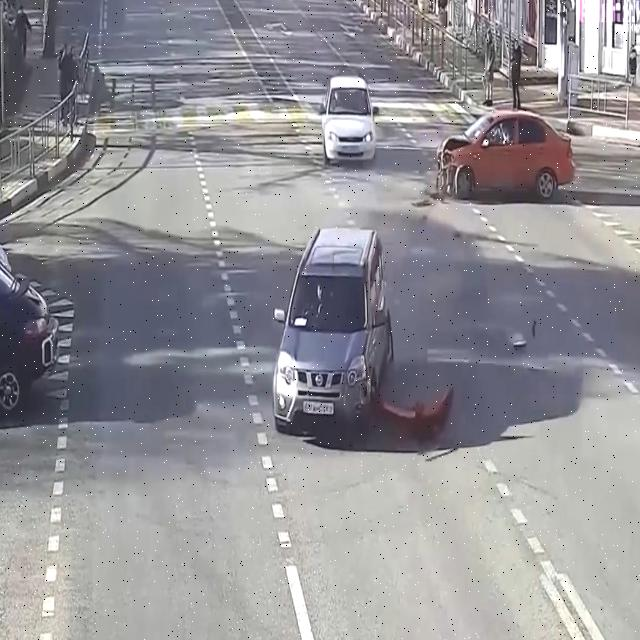accident: (264, 209, 460, 444), (431, 79, 579, 209)
